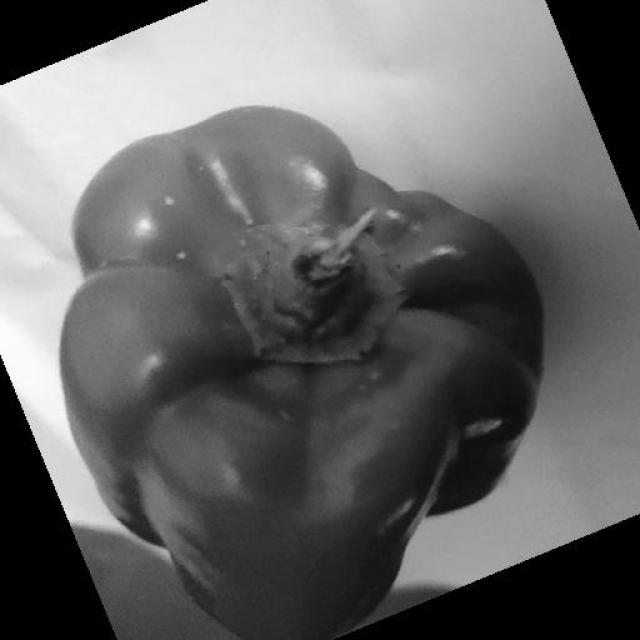Fresh_Capsicum: (70, 128, 577, 586)
